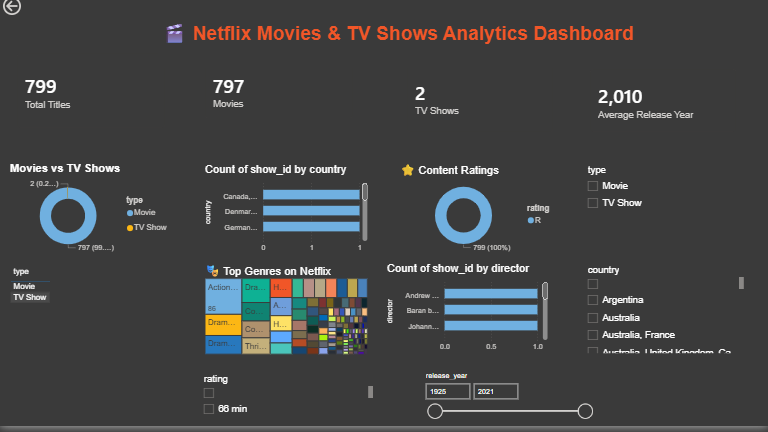

This screenshot's page, from the dashboard's own definition file:
{"tool":"powerbi","page":{"name":"Page 1","canvas":[1280,720],"ordinal":0},"visuals":[{"type":"cardVisual","fields":{"Data":["netflix_titles.Total Titles"]},"box":[11.1,81.9,280.6,158.3],"z":0},{"type":"cardVisual","fields":{"Data":["netflix_titles.Movies"]},"box":[325,97.2,280.6,127.8],"z":1000},{"type":"cardVisual","fields":{"Data":["netflix_titles.TV Shows"]},"box":[661.1,97.2,277.8,150],"z":2000},{"type":"cardVisual","fields":{"Data":["netflix_titles.Average Release Year"]},"box":[966.7,108.3,277.8,138.9],"z":3000},{"type":"textbox","title":"🎬 Netflix Movies & TV Shows Analytics Dashboard","box":[263.9,41.7,958.3,80.6],"z":4000},{"type":"donutChart","title":"Movies vs TV Shows","fields":{"Category":["netflix_titles.type"],"Y":["CountNonNull(netflix_titles.show_id)"]},"box":[11.1,280.6,280.6,158.3],"z":5000},{"type":"clusteredBarChart","fields":{"Category":["netflix_titles.country"],"Y":["CountNonNull(netflix_titles.show_id)"]},"box":[336.1,281.9,280.6,156.9],"z":6000},{"type":"actionButton","box":[0,0,100,40],"z":7000},{"type":"tableEx","fields":{"Values":["netflix_titles.type"]},"box":[11.1,448.6,280.6,156.9],"z":8000},{"type":"treemap","title":"🎭 Top Genres on Netflix","fields":{"Values":["CountNonNull(netflix_titles.show_id)"],"Group":["netflix_titles.listed_in"]},"box":[336.1,448.6,280.6,156.9],"z":9000},{"type":"donutChart","title":"⭐ Content Ratings","fields":{"Category":["netflix_titles.rating"],"Y":["CountNonNull(netflix_titles.show_id)"]},"box":[661.1,280.6,277.8,156.9],"z":10000},{"type":"clusteredBarChart","fields":{"Category":["netflix_titles.director"],"Y":["CountNonNull(netflix_titles.show_id)"]},"box":[640.3,447.2,277.8,156.9],"z":11000},{"type":"slicer","fields":{"Values":["netflix_titles.type"]},"box":[966.7,280.6,277.8,156.9],"z":11001},{"type":"slicer","fields":{"Values":["netflix_titles.country"]},"box":[966.7,447.2,277.8,156.9],"z":11002},{"type":"slicer","fields":{"Values":["netflix_titles.rating"]},"box":[326.4,627.8,300,84.7],"z":11003},{"type":"slicer","fields":{"Values":["netflix_titles.release_year"]},"box":[697.2,623.6,300,95.8],"z":11004}]}

Visuals, with their boxes on the page's 1280x720 design canvas (x1, y1, x2, y2). These are canvas units, not pixel positions in the 768x432 screenshot, which may show the page scaled, cropped or inside an application window:
cardVisual - netflix_titles.Total Titles: 11 82 292 240
cardVisual - netflix_titles.Movies: 325 97 606 225
cardVisual - netflix_titles.TV Shows: 661 97 939 247
cardVisual - netflix_titles.Average Release Year: 967 108 1244 247
"🎬 Netflix Movies & TV Shows Analytics Dashboard" textbox: 264 42 1222 122
"Movies vs TV Shows" donutChart: 11 281 292 439
clusteredBarChart - netflix_titles.country x CountNonNull(netflix_titles.show_id): 336 282 617 439
actionButton: 0 0 100 40
tableEx - netflix_titles.type: 11 449 292 606
"🎭 Top Genres on Netflix" treemap: 336 449 617 606
"⭐ Content Ratings" donutChart: 661 281 939 438
clusteredBarChart - netflix_titles.director x CountNonNull(netflix_titles.show_id): 640 447 918 604
slicer - netflix_titles.type: 967 281 1244 438
slicer - netflix_titles.country: 967 447 1244 604
slicer - netflix_titles.rating: 326 628 626 712
slicer - netflix_titles.release_year: 697 624 997 719
